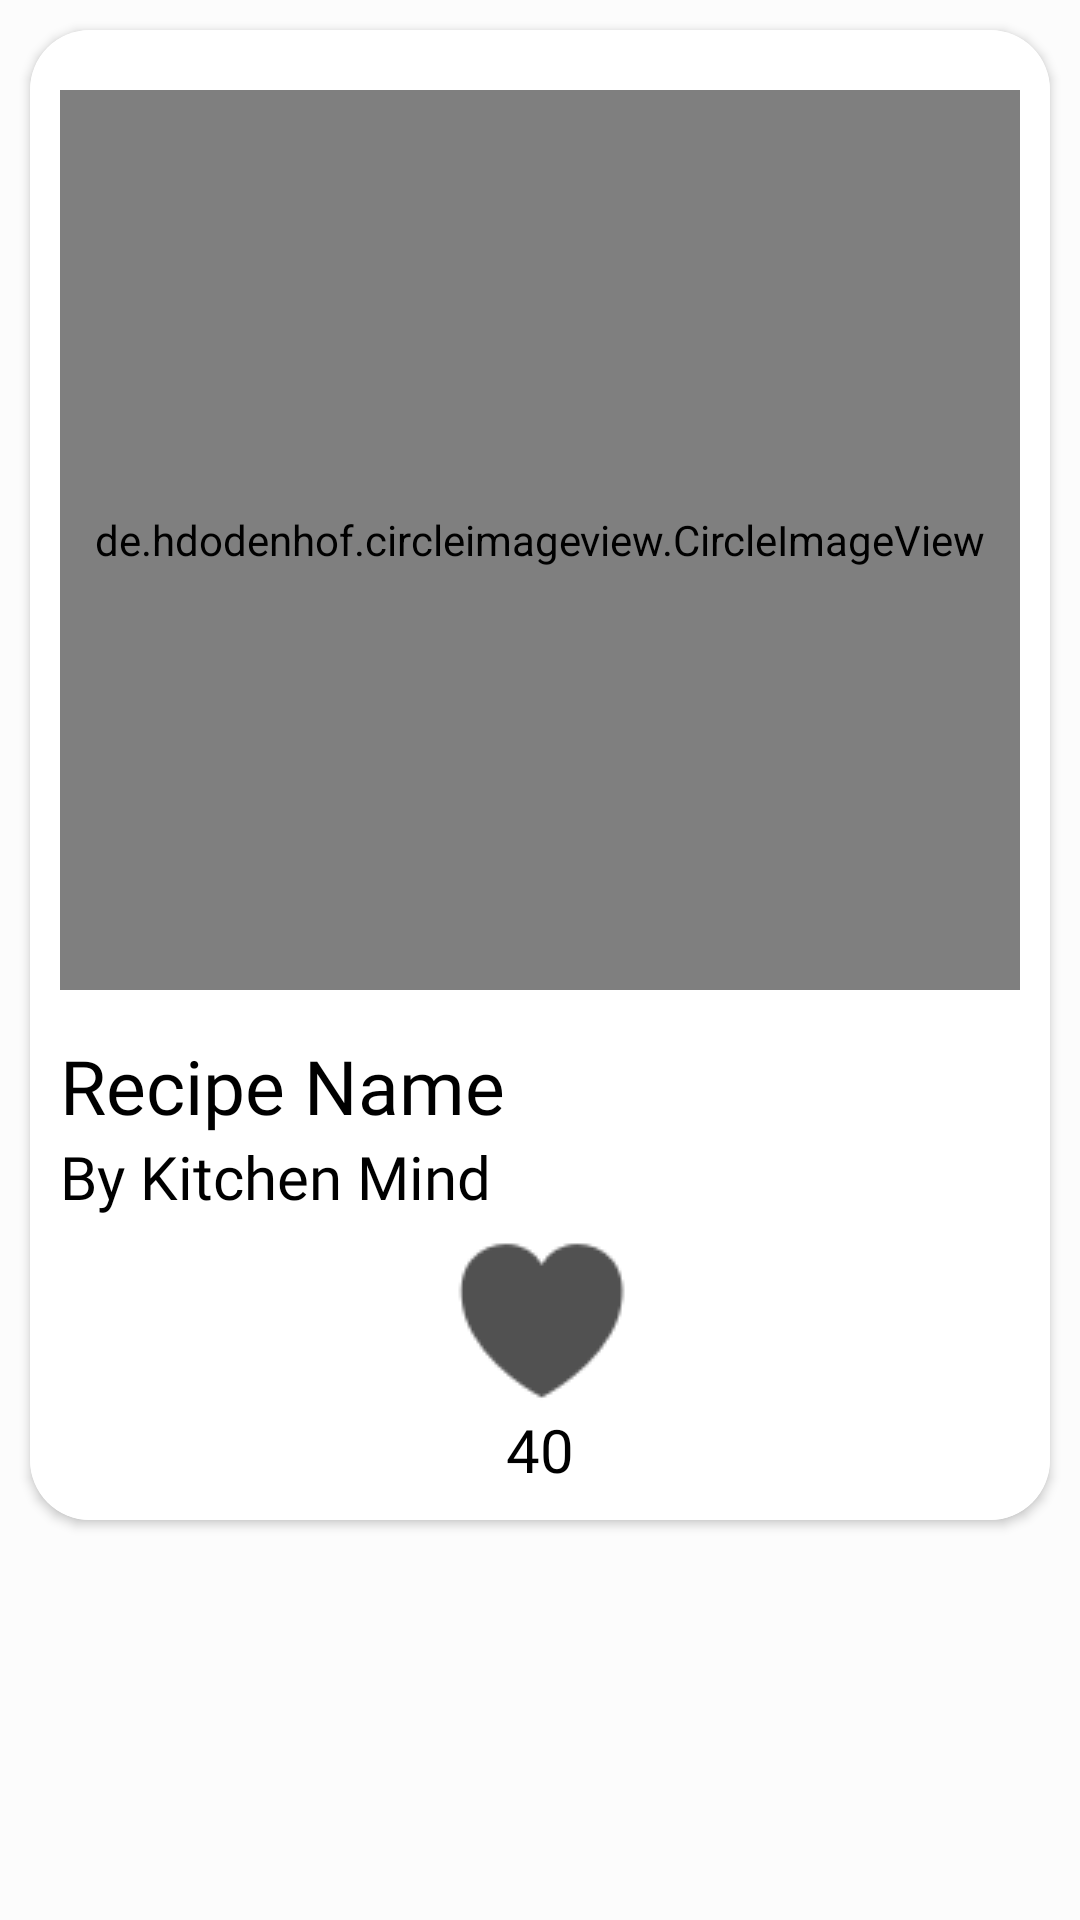

Screen size 1080 x 1920. Icon name, then its box in pixels as (x1, y1, x2, y2):
like: (459, 1243, 625, 1398)
